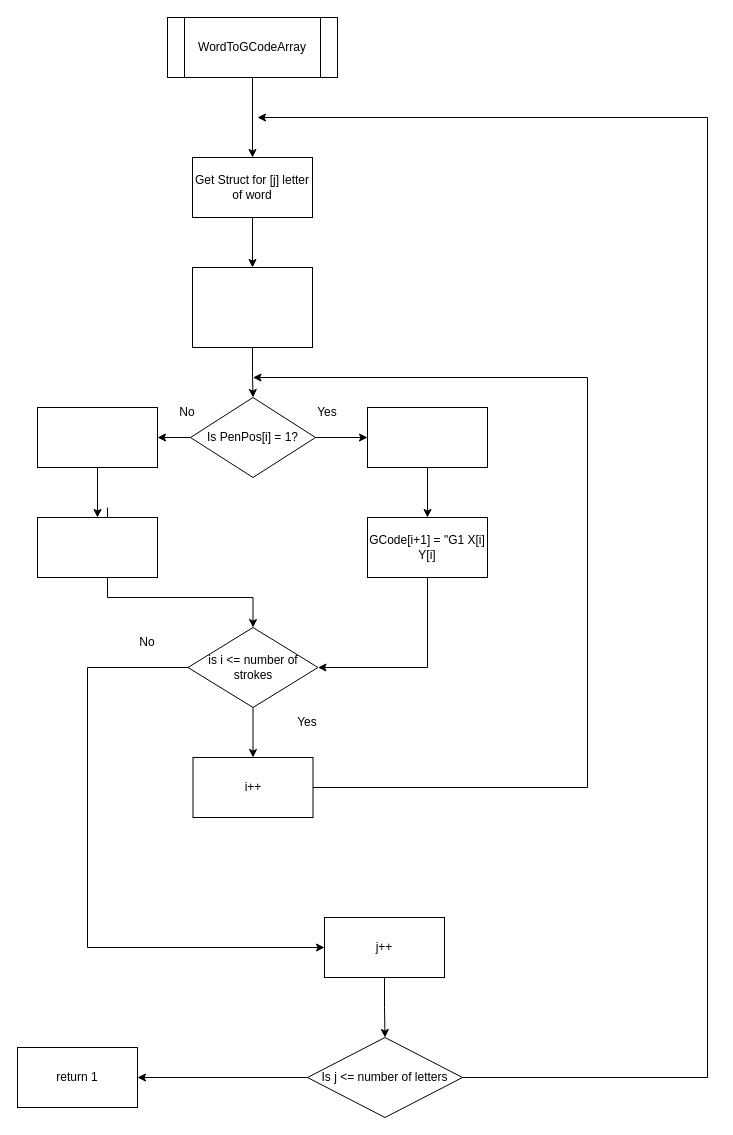
Some shapes in this 733 by 1135 pixel diagram are drawn without their labels. Here are the shapes that lost their labels. From the top down, the centre of each, then its label:
(x=252, y=307): Get Cursor_Array X and Y values and add to Xpos and YPos arrays
(x=97, y=437): GCode_Array[i] = "S0\n"
(x=427, y=437): GCode_Array[i] = "S1000\n"
(x=97, y=547): GCode[i+1] = "G0 X[i] Y[i]
